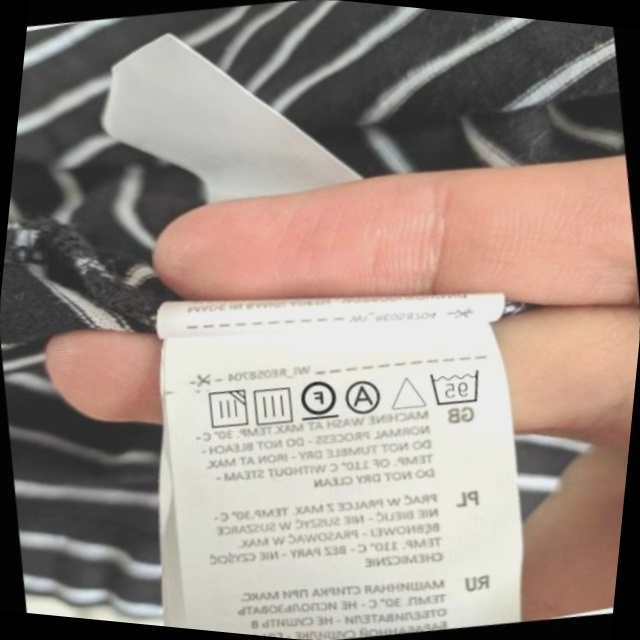95C: (422, 360, 488, 413)
bleach: (385, 367, 430, 417)
drip_dry: (246, 379, 300, 431)
drip_dry_in_shade: (198, 382, 253, 437)
dry_clean: (340, 374, 388, 420)
dry_clean_petrol_only: (293, 371, 343, 426)
